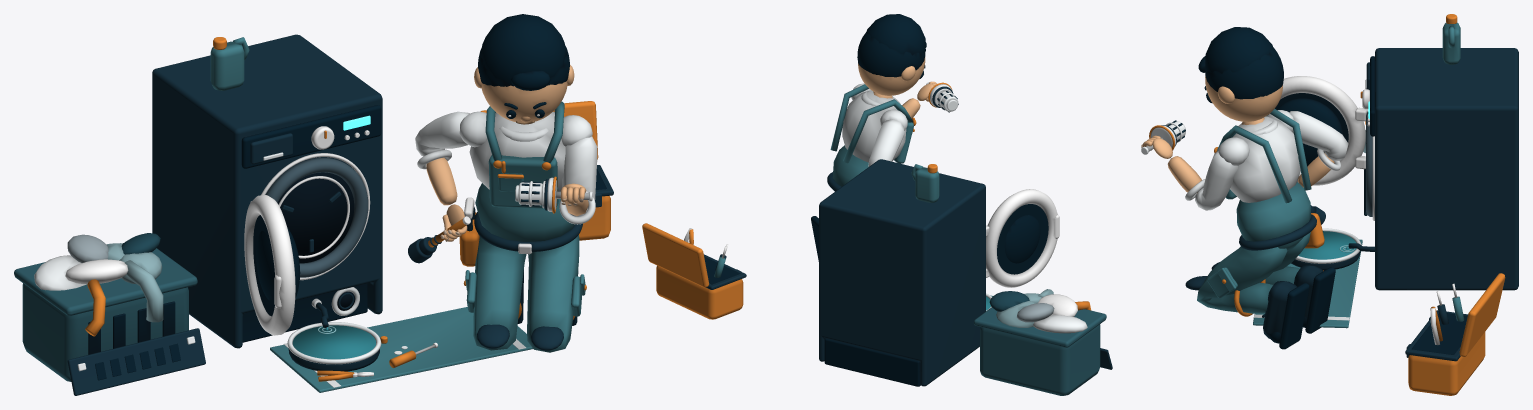
File: bild-6.glb
3 renders of one model, left to right at view 1: azimuth 30°, elevation 25°; view 2: azimuth 150°, elevation 25°; view 3: azimuth 270°, elevation 25°, orthographic. The views are drawn at different scales.
Parts seen in each view (by area): view 1: Dichtung, Blende, FachkraftBauch, Korb, Flasche, FachkraftArm1, FachkraftSchnalle, Fachkraft1Daumen, Deckel, Sockelblende, Blendenclip0.22, Manschette (+6 smaller); view 2: Dichtung, Korb, Blende, Deckel, FachkraftSchnalle, FachkraftArm1, Glasschale, FachkraftBauch, Fachkraft1Daumen, Blendenclip0.22, Flasche, Aermel (+2 smaller); view 3: Dichtung, FachkraftBauch, Blende, FachkraftArm1, Deckel, Fachkraft1Daumen, FachkraftSchnalle, Flasche, Glasschale, Blendenclip0.22, Tropfen, Dreherklinge (+1 smaller).
Boxes of the visible parts, x1,y1,x2,y2 form: Dichtung: [152, 34, 613, 371]; Blende: [88, 14, 606, 380]; FachkraftBauch: [465, 101, 585, 352]; Korb: [14, 243, 197, 381]; Flasche: [210, 37, 532, 392]; FachkraftArm1: [415, 111, 597, 224]; FachkraftSchnalle: [65, 126, 531, 335]; Fachkraft1Daumen: [426, 65, 588, 241]; Deckel: [85, 37, 610, 381]; Sockelblende: [67, 328, 205, 395]; Blendenclip0.22: [34, 152, 592, 387]; Manschette: [266, 157, 368, 277]; Dichtung: [703, 86, 985, 386]; Korb: [973, 307, 1106, 395]; Blende: [704, 14, 926, 386]; Deckel: [642, 82, 1091, 319]; FachkraftSchnalle: [986, 189, 1077, 316]; FachkraftArm1: [842, 83, 907, 166]; Glasschale: [997, 204, 1048, 274]; FachkraftBauch: [830, 84, 913, 186]; Fachkraft1Daumen: [858, 57, 936, 118]; Blendenclip0.22: [926, 82, 1087, 333]; Flasche: [714, 164, 992, 296]; Aermel: [996, 289, 1053, 327]; Dichtung: [1161, 48, 1518, 361]; FachkraftBauch: [1197, 109, 1311, 313]; Blende: [1198, 27, 1467, 354]; FachkraftArm1: [1185, 110, 1348, 210]; Deckel: [1149, 14, 1505, 395]; Fachkraft1Daumen: [1142, 76, 1334, 192]; FachkraftSchnalle: [1280, 76, 1369, 185]; Flasche: [1253, 22, 1464, 328]; Glasschale: [1268, 93, 1348, 166]; Blendenclip0.22: [1141, 79, 1366, 320]; Tropfen: [1298, 231, 1356, 259]; Dreherklinge: [1355, 107, 1457, 345].
Size of the model in its own units: 2.36 by 1.33 by 1.58.
